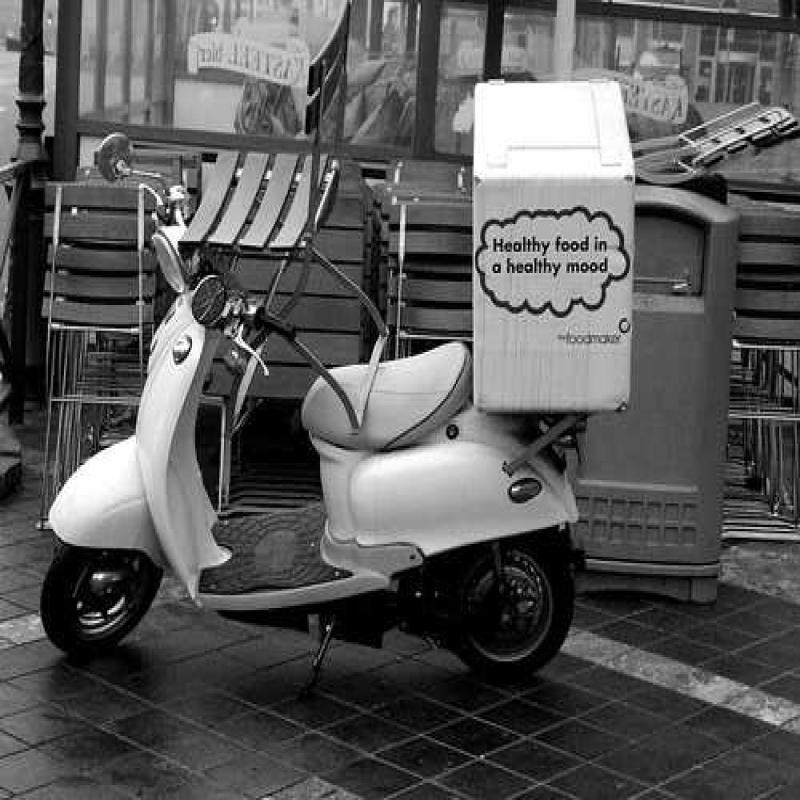bike: (29, 135, 626, 672)
